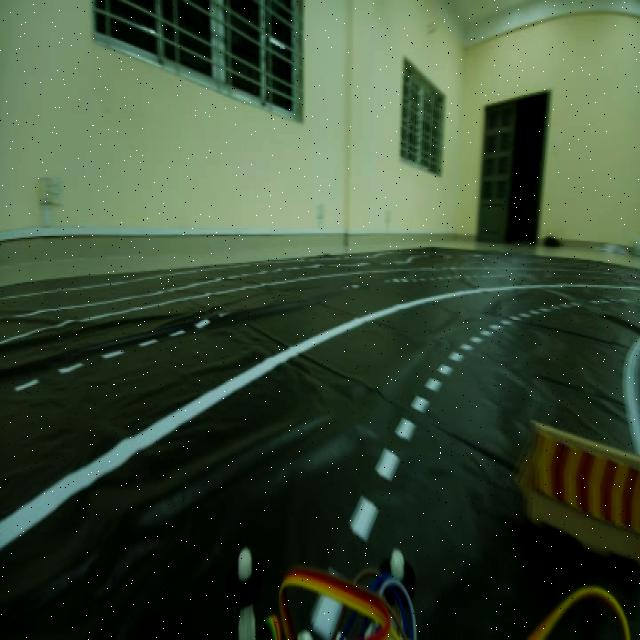roadblock: (521, 412, 640, 580)
